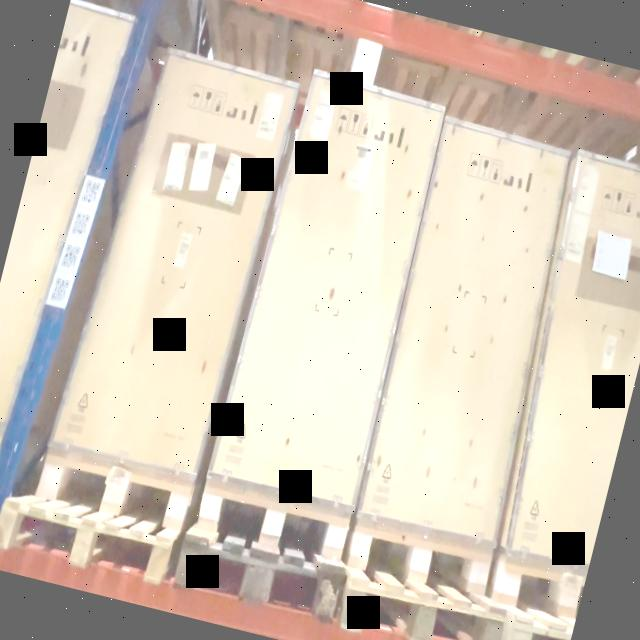box: (218, 71, 448, 501), (71, 51, 294, 472), (358, 126, 572, 543)
